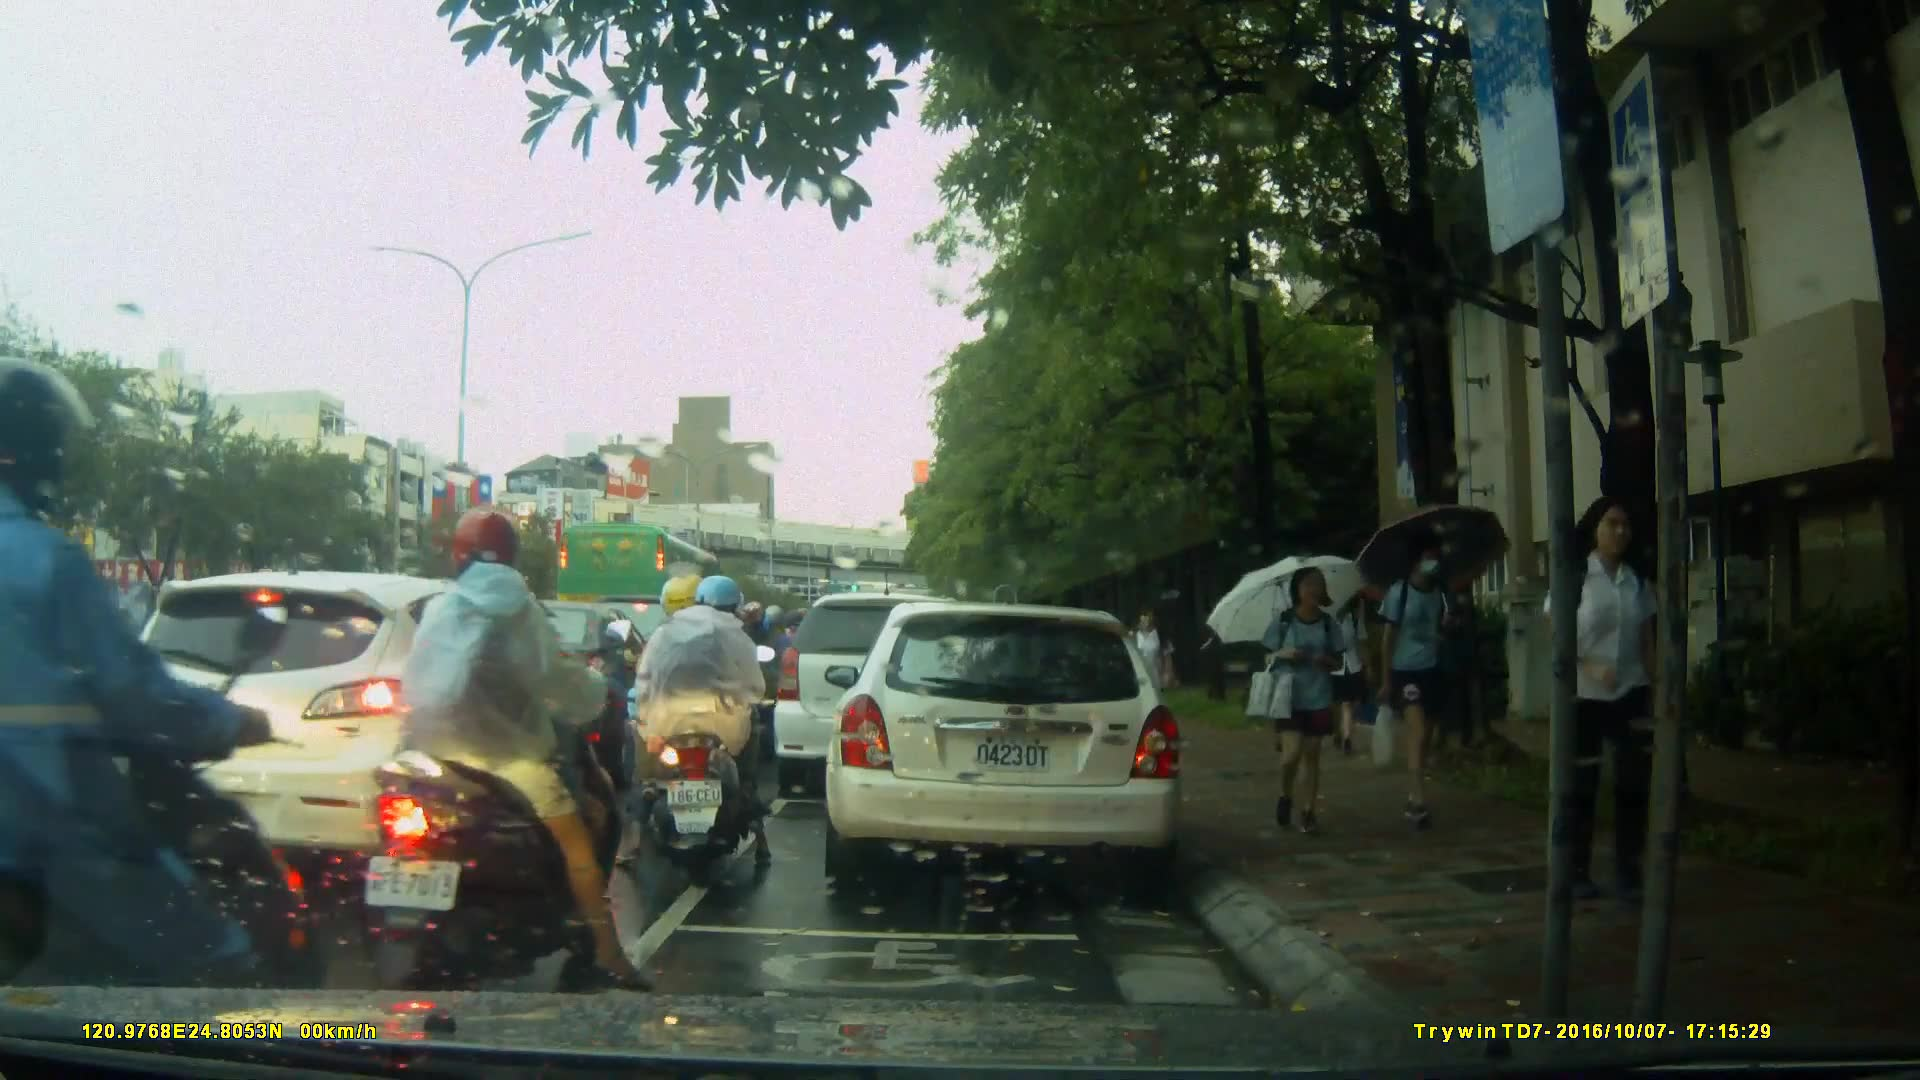pedestrian: (1541, 490, 1671, 909), (1355, 535, 1479, 838), (1252, 561, 1360, 850), (1259, 571, 1303, 770), (1127, 599, 1174, 752)
rider: (1, 364, 347, 1069), (361, 506, 653, 995), (615, 577, 777, 879), (661, 588, 762, 809)
vehicle: (96, 569, 592, 883), (822, 604, 1187, 883), (774, 595, 995, 802), (556, 520, 740, 665), (20, 576, 199, 697)
